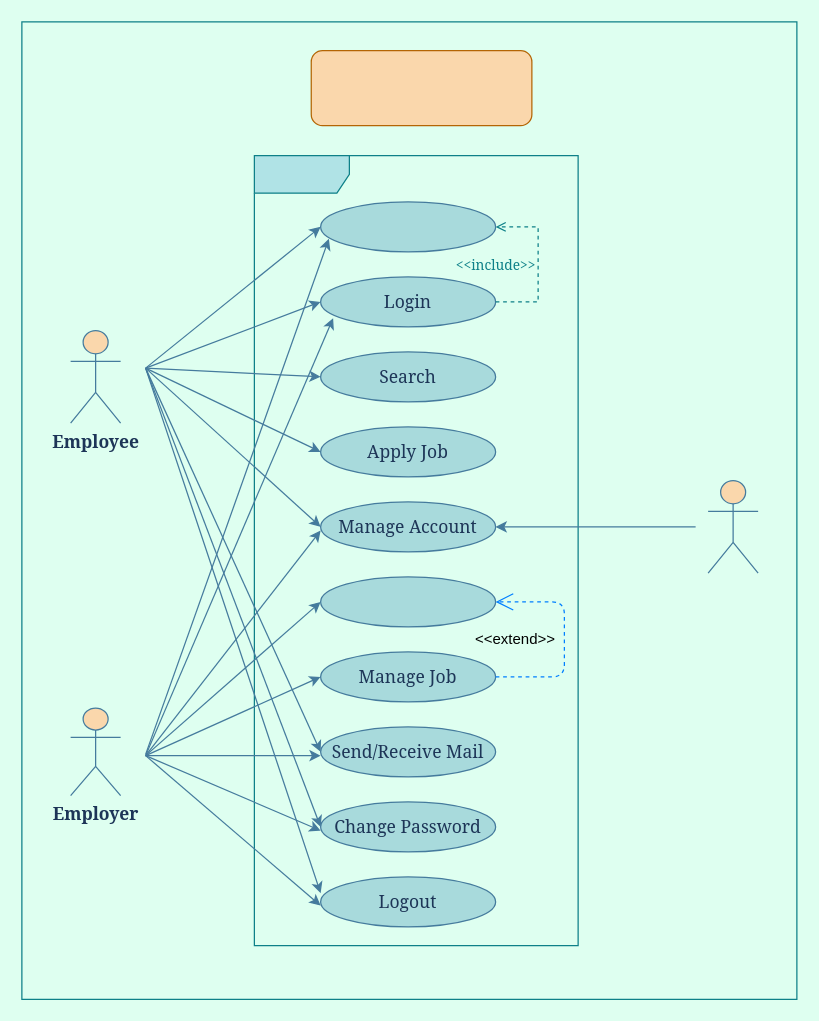
Some shapes in this 819 by 1021 pixel diagram are drawn without their labels. The shapes that lost their labels are listed below. From the top down, each one's box as (x1, y1, x2, y2) in pixels, then its label:
(310, 49, 532, 126): USECASE DIAGRAM
(319, 201, 496, 252): Registration
(707, 479, 758, 573): Admin
(253, 154, 578, 946): Online Job Portal
(319, 576, 496, 627): Post Job
